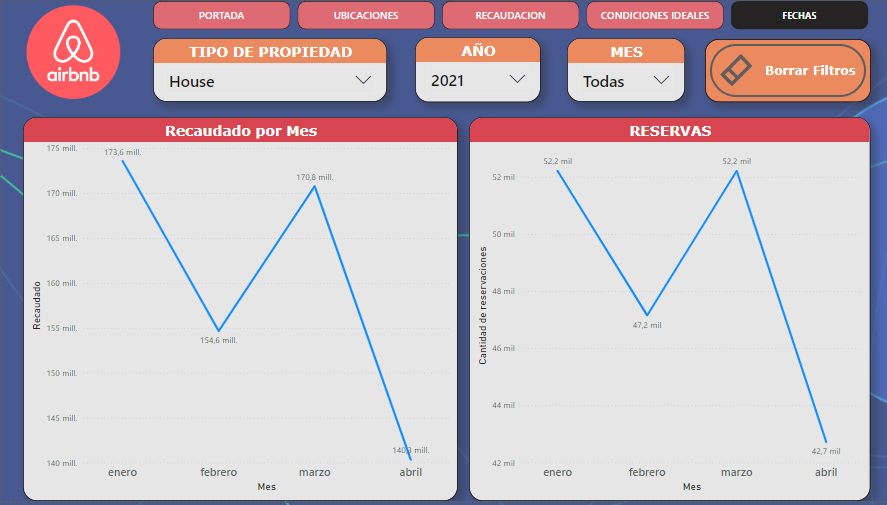

The dashboard page shown, as its layout file describes it:
{"tool":"powerbi","page":{"name":"FECHAS","canvas":[1280,720],"ordinal":3},"visuals":[{"type":"lineChart","fields":{"Category":["calendar.Fecha.Variación.Jerarquía de fechas.Mes"],"Y":["Sum(calendar.Precio)"]},"box":[31.4,167.3,625.8,552.6],"z":0},{"type":"lineChart","title":"RESERVAS","fields":{"Category":["calendar.Fecha.Variación.Jerarquía de fechas.Mes"],"Y":["CountNonNull(calendar.Precio)"]},"box":[673.6,167.3,578,552.6],"z":1000},{"type":"image","box":[31.7,0,145.4,146.9],"z":2000},{"type":"slicer","title":"TIPO DE PROPIEDAD","fields":{"Values":["listings.tipo_propiedad"]},"box":[218.9,53.3,337,92.2],"z":3000},{"type":"slicer","title":"AÑO","fields":{"Values":["calendar.Fecha.Variación.Jerarquía de fechas.Año"]},"box":[596.2,51.8,181.4,93.6],"z":4000},{"type":"slicer","title":"MES","fields":{"Values":["calendar.Fecha.Variación.Jerarquía de fechas.Mes"]},"box":[815,53.3,169.9,92.2],"z":5000},{"type":"pageNavigator","box":[218.9,0,1033.9,41.8],"z":6000},{"type":"actionButton","box":[1013.8,54.7,239,90.7],"z":7000}]}

Visuals, with their boxes in screenshot pixels (x1, y1, x2, y2), scaled from the page's 1280x720 canvas onto the 887x505 screenshot:
lineChart - calendar.Fecha.Variación.Jerarquía de fechas.Mes x Sum(calendar.Precio): region(22, 117, 455, 504)
"RESERVAS" lineChart: region(467, 117, 867, 504)
image: region(22, 0, 123, 103)
"TIPO DE PROPIEDAD" slicer: region(152, 37, 385, 102)
"AÑO" slicer: region(413, 36, 539, 102)
"MES" slicer: region(565, 37, 683, 102)
pageNavigator: region(152, 0, 868, 29)
actionButton: region(703, 38, 868, 102)
